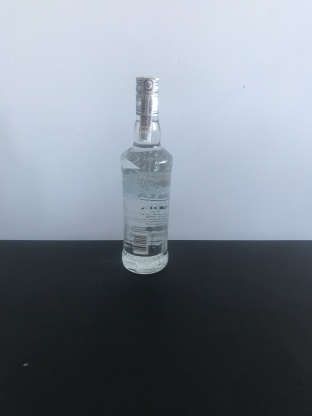nakretka: (133, 71, 161, 117)
